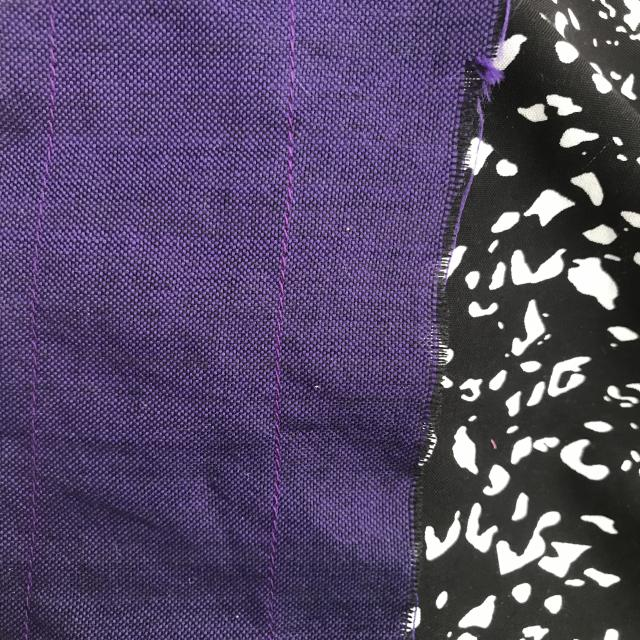good: (253, 478, 302, 597), (22, 440, 52, 580)
